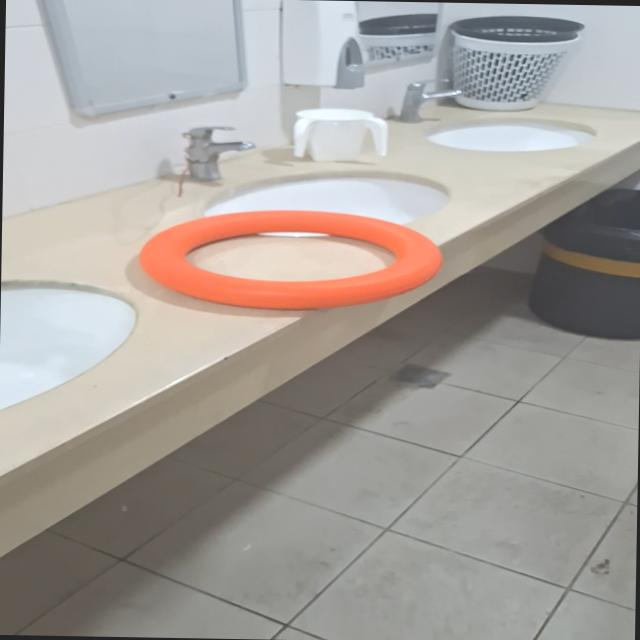note: (136, 205, 446, 314)
